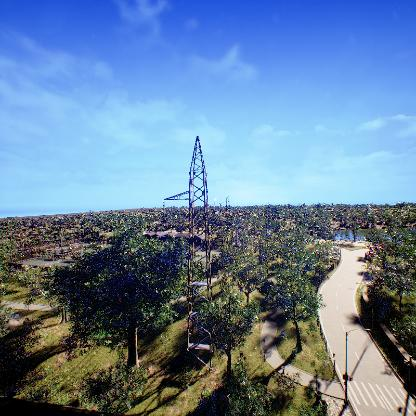tower: (153, 129, 239, 388)
